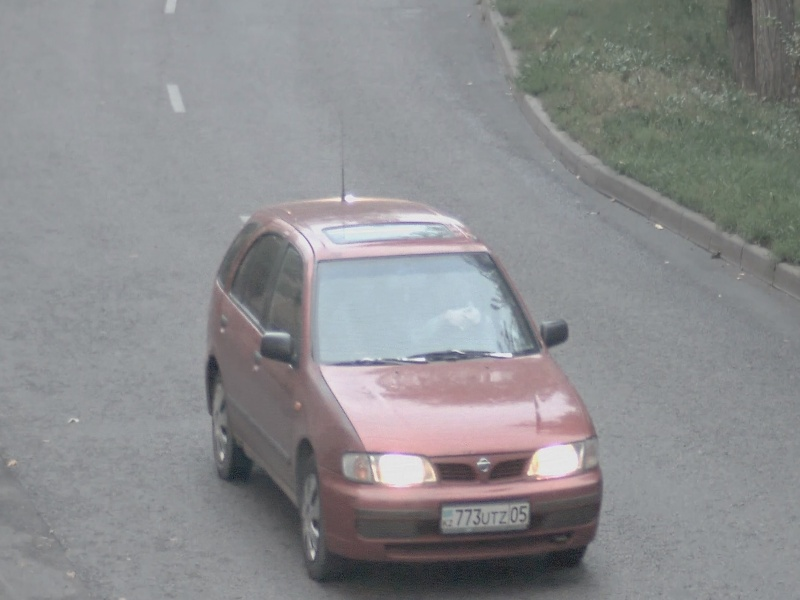plate: (440, 501, 531, 533)
